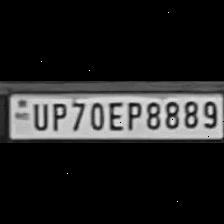0: (85, 99, 105, 130)
7: (68, 99, 86, 131)
8: (142, 98, 162, 130), (179, 98, 199, 130), (162, 98, 180, 130)
9: (198, 97, 220, 128)
E: (105, 99, 124, 131)
P: (47, 100, 67, 132), (124, 99, 140, 130)
U: (28, 100, 50, 132)
